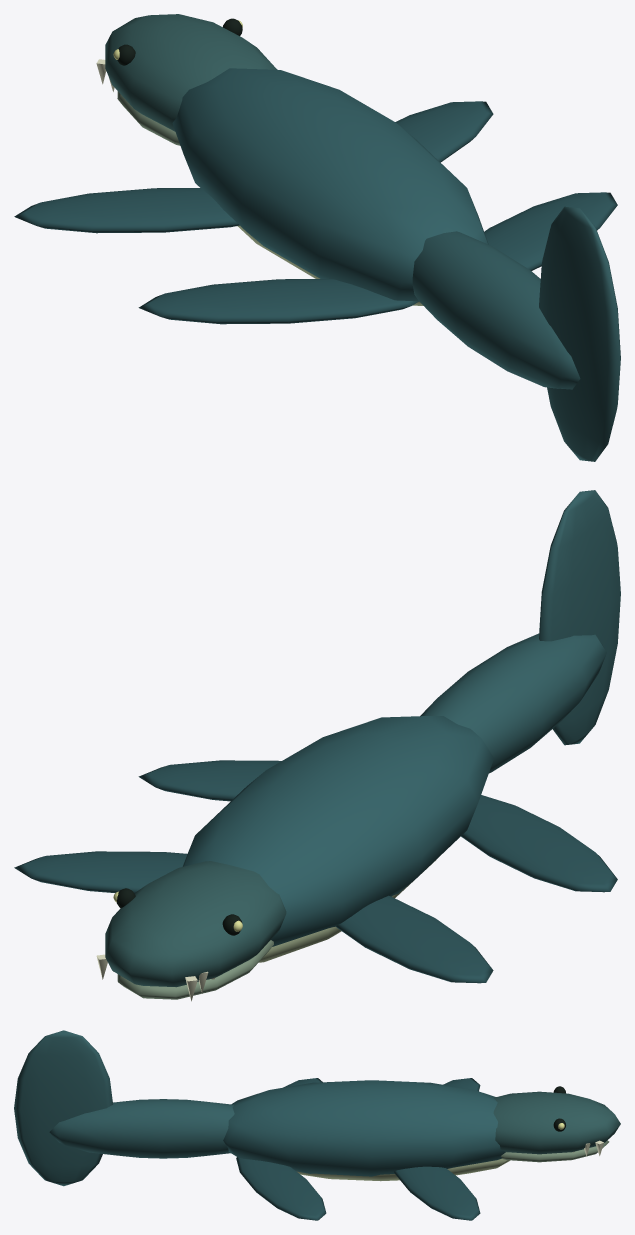
The model's file is mosasaurus.glb.
3 renders of one model, top to bottom at view 1: azimuth 30°, elevation 25°; view 2: azimuth 150°, elevation 25°; view 3: azimuth 270°, elevation 25°, orthographic. The views are drawn at different scales.
Parts seen in each view (by area): view 1: Mosasaurus, Tail, Jaw; view 2: Mosasaurus, Tail, Jaw; view 3: Mosasaurus, Tail, Jaw.
Boxes of the visible parts, box(x1,y1,x2,y2) form: Mosasaurus: box(14, 14, 617, 324); Tail: box(412, 206, 620, 461); Jaw: box(117, 91, 180, 145); Mosasaurus: box(14, 716, 617, 1001); Tail: box(420, 490, 620, 773); Jaw: box(117, 940, 273, 999); Mosasaurus: box(223, 1078, 620, 1220); Tail: box(14, 1030, 234, 1186); Jaw: box(501, 1140, 609, 1162).
Size of the model in its own units: 7.45 by 3.8 by 13.4.
